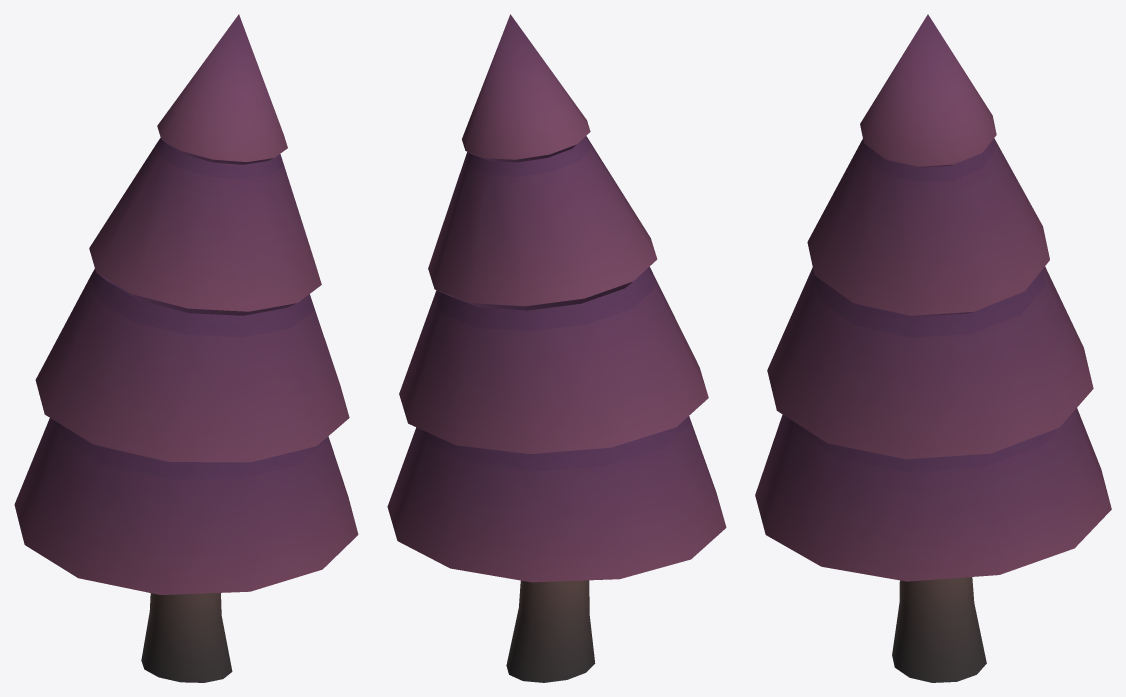
File: Ёлка1.5.fbx
The picture shows the model from 3 angles, left to right: view 1: azimuth 30°, elevation 25°; view 2: azimuth 150°, elevation 25°; view 3: azimuth 270°, elevation 25°; orthographic projection. The views are drawn at different scales.
Parts seen in each view (by area): view 1: Ёлка1_5; view 2: Ёлка1_5; view 3: Ёлка1_5.
Part boxes in pixels (<box>): Ёлка1_5: <box>14,14,358,682</box>; Ёлка1_5: <box>387,14,726,682</box>; Ёлка1_5: <box>755,14,1111,682</box>.
Size of the model in its own units: 183 by 381 by 183.
